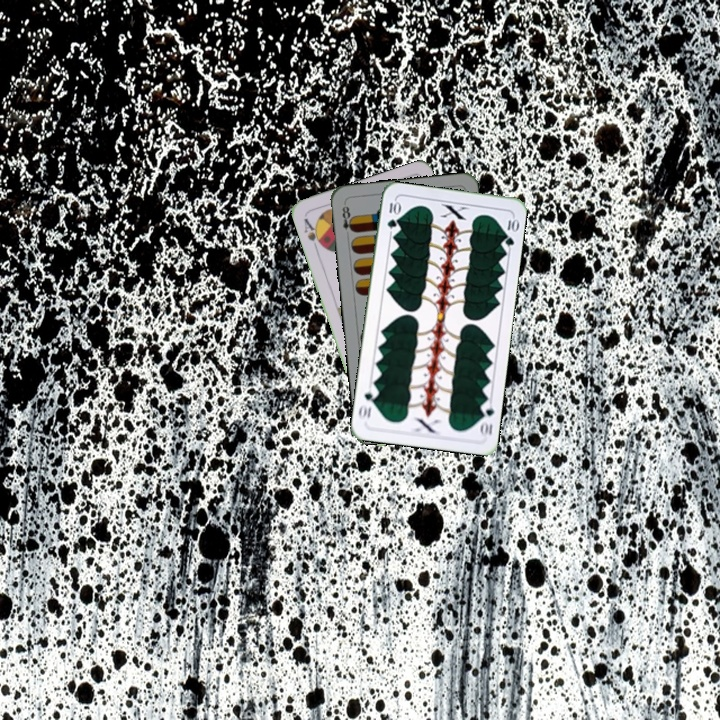E8: (338, 200, 357, 235)
G10: (476, 398, 496, 439), (383, 197, 401, 231)
SA: (300, 214, 326, 252)
